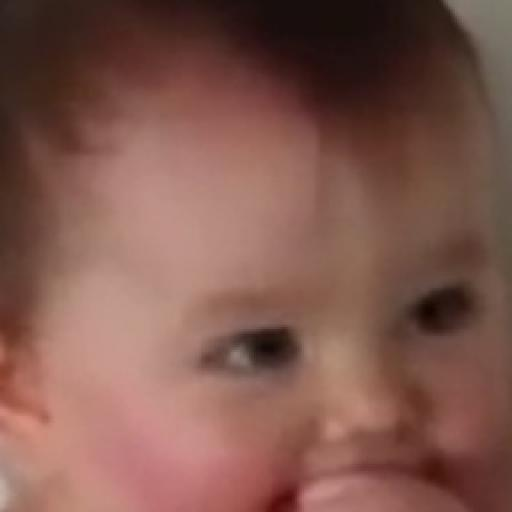Autism: (30, 9, 512, 512)
